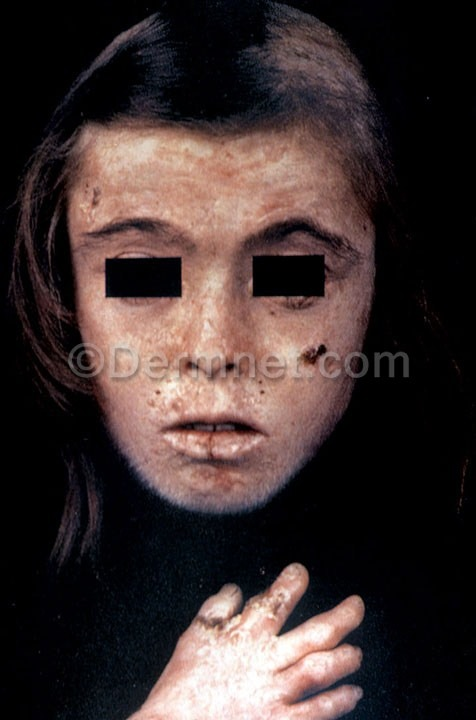Melasma: (84, 153, 316, 224), (94, 303, 335, 351), (167, 432, 261, 497), (141, 379, 273, 412)
